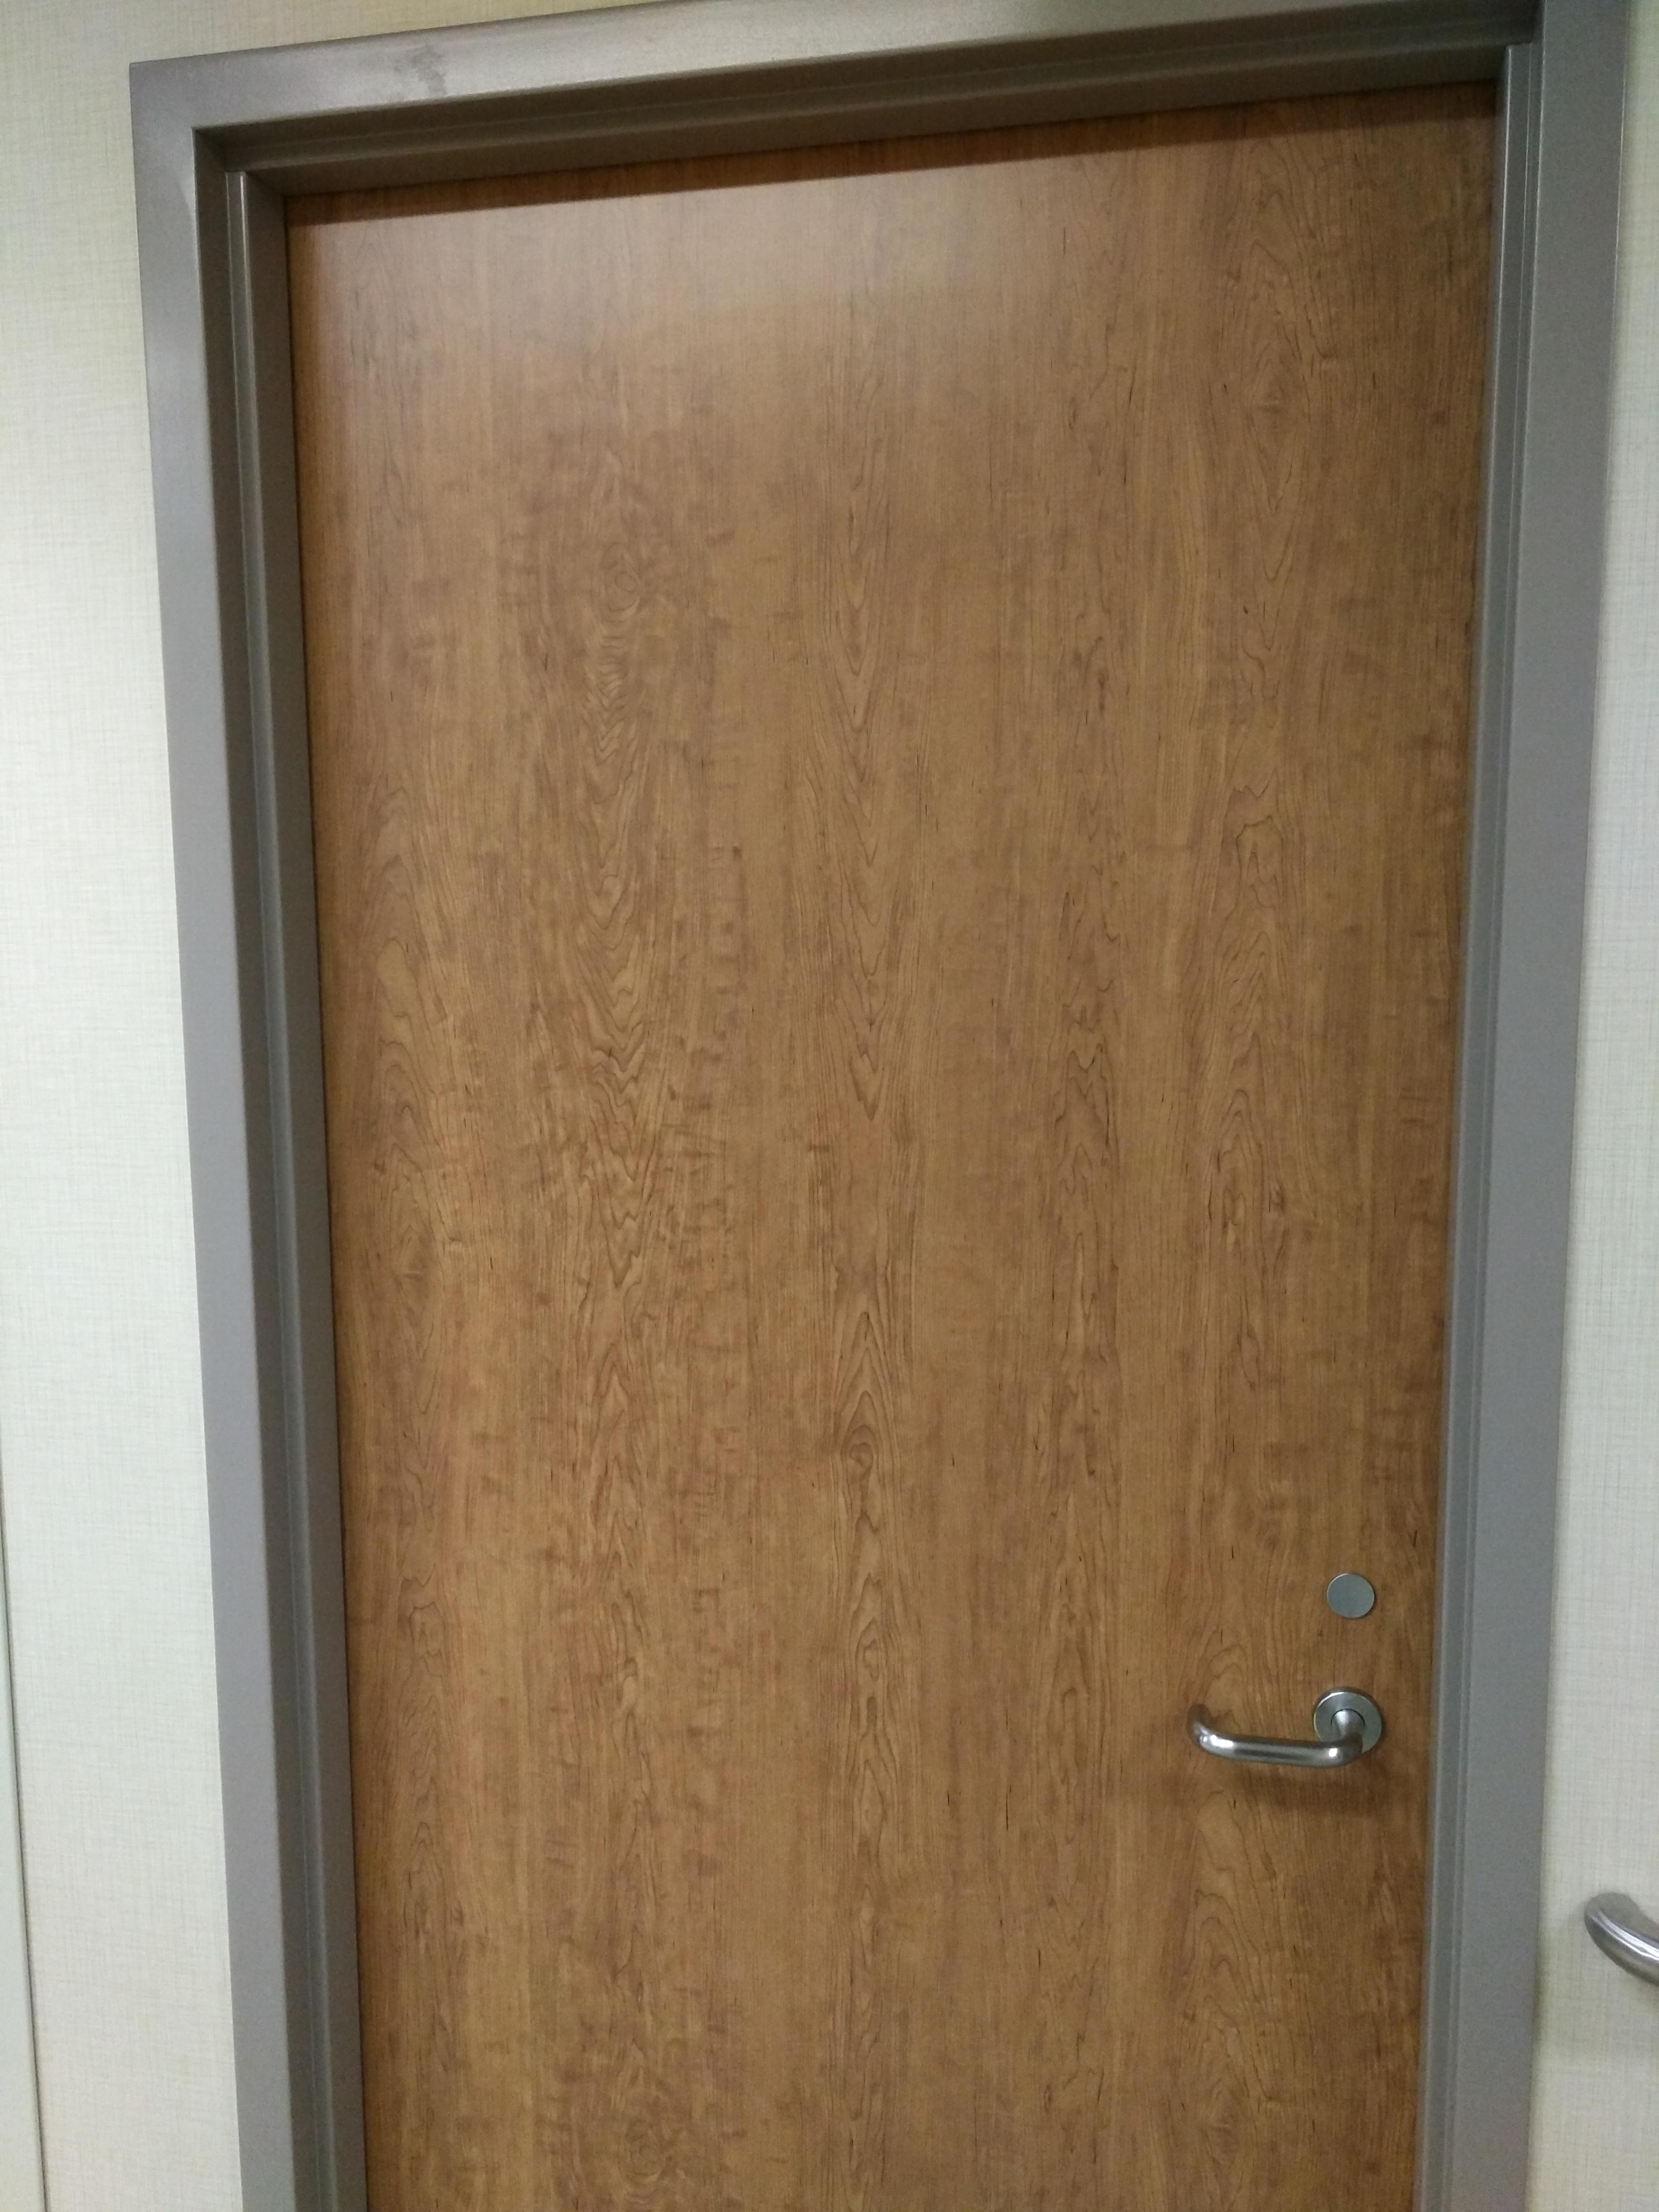door: (207, 101, 1460, 2212)
